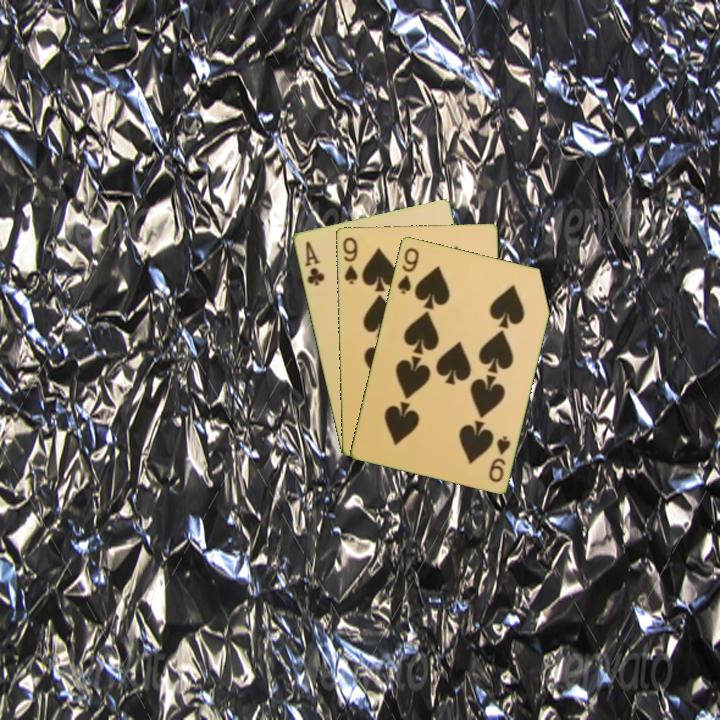9s: (394, 244, 422, 297), (485, 432, 513, 485), (339, 234, 360, 287)
Ac: (301, 237, 327, 289)
